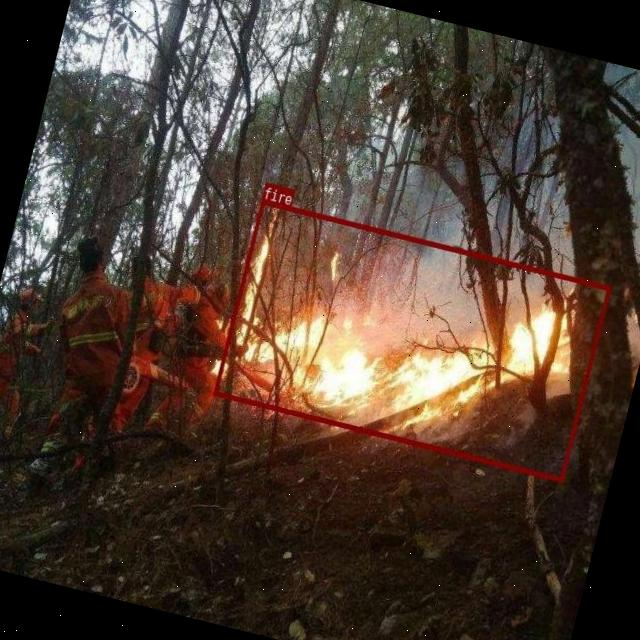fire: (212, 198, 610, 480)
